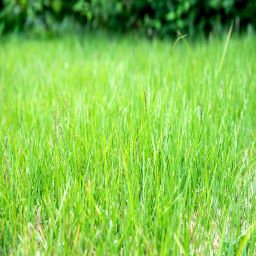grass: (1, 42, 252, 252)
